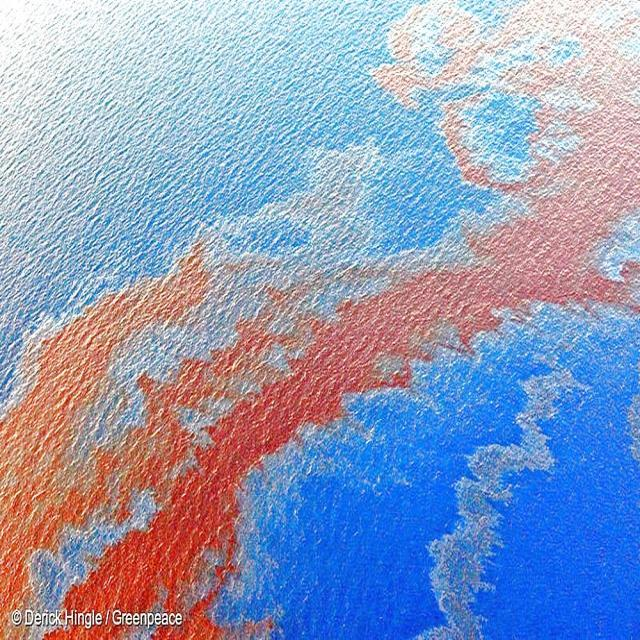truecolor: (66, 3, 640, 639), (0, 268, 197, 623)
